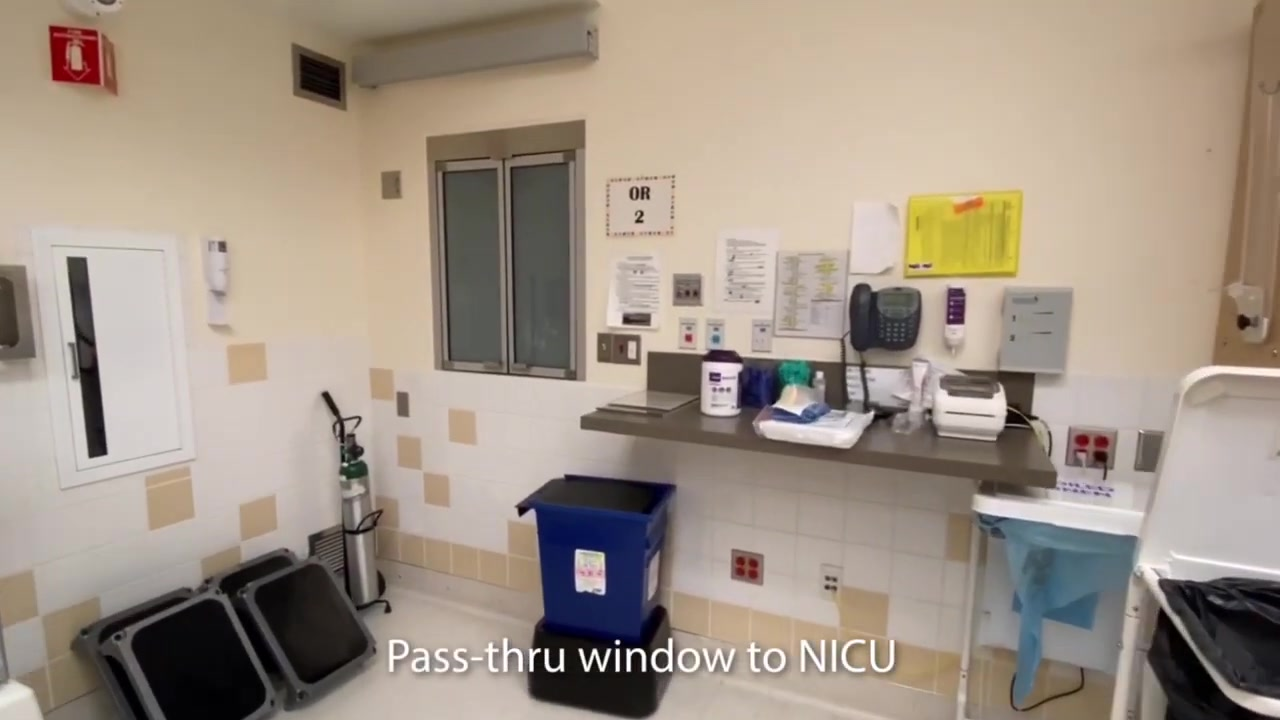countertop: (578, 393, 1060, 494)
dispenser: (204, 237, 236, 336)
handle: (66, 338, 87, 384), (511, 362, 531, 371), (485, 360, 502, 369)
telephone: (849, 274, 927, 365)
waste_bin: (514, 472, 681, 716), (972, 486, 1142, 720), (1153, 554, 1280, 720)
